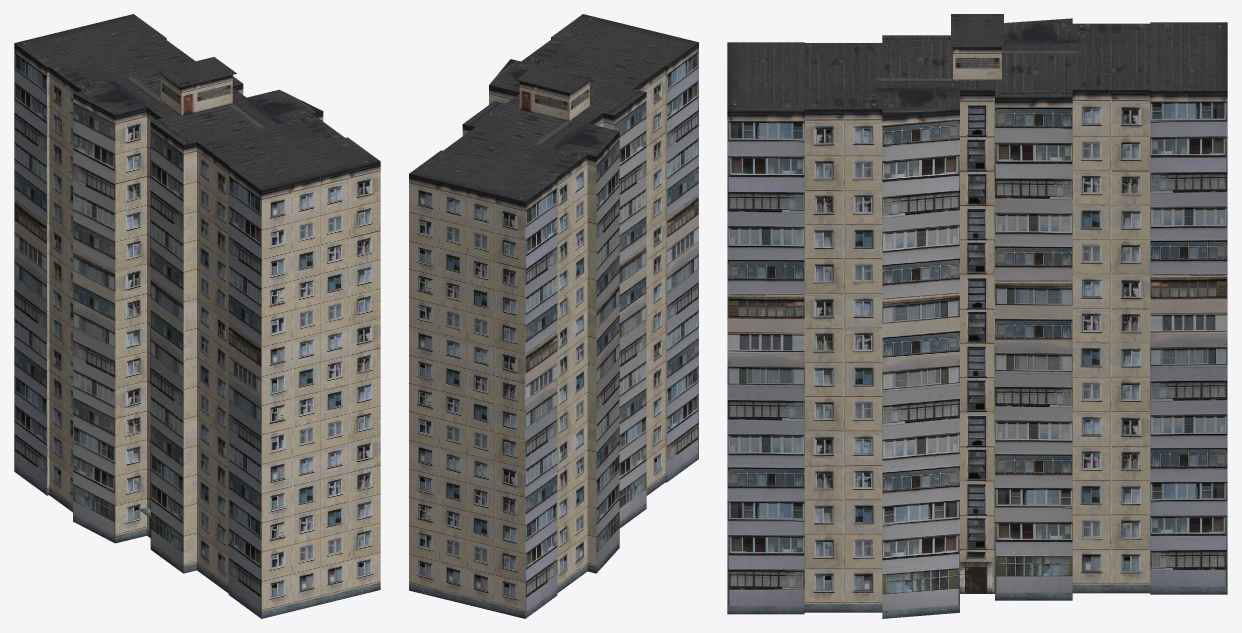
File: omsk_14_et.FBX
3 views of the same model, side by side, from view 1: azimuth 30°, elevation 25°; view 2: azimuth 150°, elevation 25°; view 3: azimuth 270°, elevation 25° (orthographic). The views are drawn at different scales.
Visible parts, largest first — view 1: omsk_14_et; view 2: omsk_14_et; view 3: omsk_14_et.
Boxes of the visible parts, left/top/right/bottom form: omsk_14_et: left=14, top=14, right=380, bottom=618; omsk_14_et: left=409, top=14, right=698, bottom=618; omsk_14_et: left=727, top=14, right=1227, bottom=618.
Bounding box in the file's own units: 17.77 × 38.73 × 46.05.
